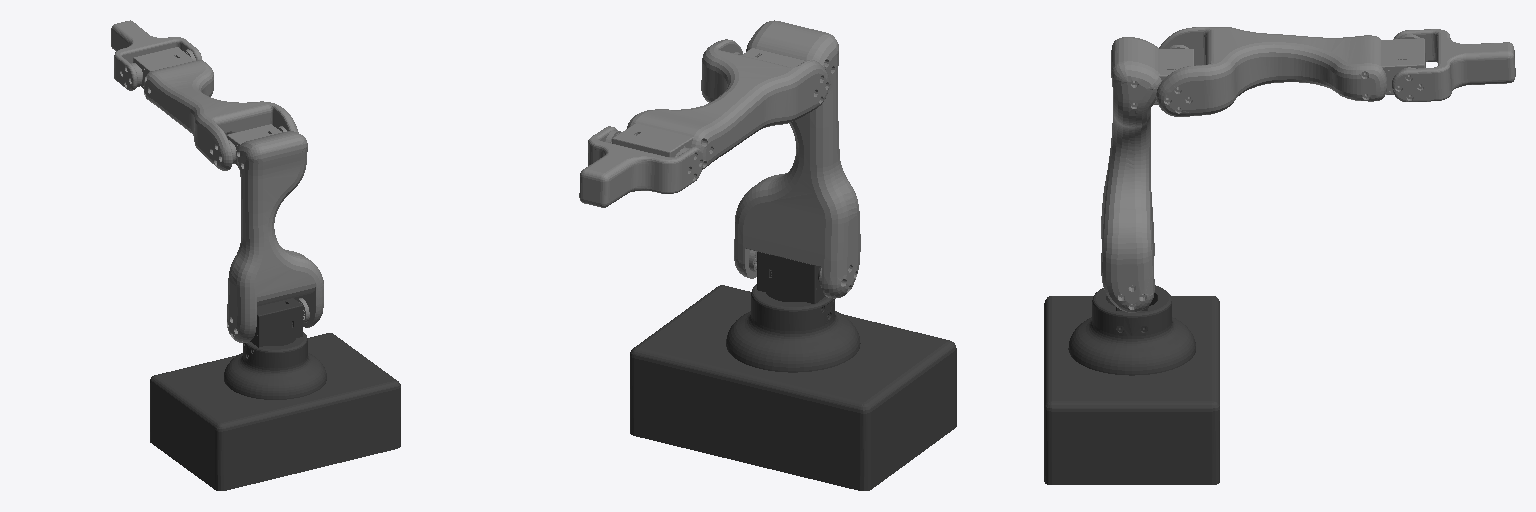
URDF robot description (4dof_1st):
<?xml version="1.0" encoding="utf-8"?>
<!-- This URDF was automatically created by SolidWorks to URDF Exporter! Originally created by [author] ([email redacted]) 
     Commit Version: 1.6.0-4-g7f85cfe  Build Version: 1.6.7995.38578
     For more information, please see http://wiki.ros.org/sw_urdf_exporter -->
<robot
  name="4dof_1st">
  <link
    name="base">
    <inertial>
      <origin
        xyz="1.46459065209692E-17 0.0279238800911216 2.10438569532799E-17"
        rpy="0 0 0" />
      <mass
        value="1.01233115660444" />
      <inertia
        ixx="0.00127851826321163"
        ixy="-2.84647285928239E-20"
        ixz="-2.04313611300598E-19"
        iyy="0.00330201153266579"
        iyz="-5.59989405987059E-20"
        izz="0.00254994453490086" />
    </inertial>
    <visual>
      <origin
        xyz="0 0 0"
        rpy="0 0 0" />
      <geometry>
        <mesh
          filename="package://4dof_1st/meshes/base.STL" />
      </geometry>
      <material
        name="clear">
        <color
          rgba="0.3 0.3 0.3 1" />
      </material>
    </visual>
    <collision>
      <origin
        xyz="0 0 0"
        rpy="0 0 0" />
      <geometry>
        <mesh
          filename="package://4dof_1st/meshes/base.STL" />
      </geometry>
    </collision>
  </link>
  <link
    name="L1">
    <inertial>
      <origin
        xyz="6.98379577605036E-08 0.00839921203566611 -0.00011619558777941"
        rpy="0 0 0" />
      <mass
        value="0.109719412381612" />
      <inertia
        ixx="4.04026836034197E-05"
        ixy="-1.24783674052928E-10"
        ixz="-1.48199934122019E-10"
        iyy="5.74445778942386E-05"
        iyz="-1.44657703020893E-07"
        izz="3.7937379436841E-05" />
    </inertial>
    <visual>
      <origin
        xyz="0 0 0"
        rpy="0 0 0" />
      <geometry>
        <mesh
          filename="package://4dof_1st/meshes/L1.STL" />
      </geometry>
      <material
        name="clear">
        <color
          rgba="0.3 0.3 0.3 1" />
      </material>
    </visual>
    <collision>
      <origin
        xyz="0 0 0"
        rpy="0 0 0" />
      <geometry>
        <mesh
          filename="package://4dof_1st/meshes/L1.STL" />
      </geometry>
    </collision>
  </link>
  <joint
    name="base_L1"
    type="continuous">
    <origin
      xyz="0 0 0.06806"
      rpy="1.5707963267949 0 1.5707963267949" />
    <parent
      link="base" />
    <child
      link="L1" />
    <axis
      xyz="0 1 0" />
  </joint>
  <link
    name="L2">
    <inertial>
      <origin
        xyz="0.0702336453115942 0.00389238854048329 -0.0201130596648308"
        rpy="0 0 0" />
      <mass
        value="0.202780167580016" />
      <inertia
        ixx="0.000109799446034618"
        ixy="-3.30138194275749E-06"
        ixz="8.2619647998707E-05"
        iyy="0.000352426504373169"
        iyz="8.08050887748614E-07"
        izz="0.000386493423397687" />
    </inertial>
    <visual>
      <origin
        xyz="0 0 0"
        rpy="0 0 0" />
      <geometry>
        <mesh
          filename="package://4dof_1st/meshes/L2.STL" />
      </geometry>
      <material
        name="gray">
        <color
          rgba="0.55 0.55 0.55 0.8" />
      </material>
    </visual>
    <collision>
      <origin
        xyz="0 0 0"
        rpy="0 0 0" />
      <geometry>
        <mesh
          filename="package://4dof_1st/meshes/L2.STL" />
      </geometry>
    </collision>
  </link>
  <joint
    name="L1_L2"
    type="continuous">
    <origin
      xyz="0 0.04 0"
      rpy="-1.5707963267949 0 1.82825948514324" />
    <parent
      link="L1" />
    <child
      link="L2" />
    <axis
      xyz="0 -1 0" />
  </joint>
  <link
    name="L3">
    <inertial>
      <origin
        xyz="-0.0478479592653754 0.00515392784575905 0.0519819866111054"
        rpy="0 0 0" />
      <mass
        value="0.147186775685883" />
      <inertia
        ixx="0.000138624780944488"
        ixy="4.37801584099522E-06"
        ixz="7.10053754036743E-05"
        iyy="0.000163287060061744"
        iyz="-4.40680894568525E-06"
        izz="0.000111799281194118" />
    </inertial>
    <visual>
      <origin
        xyz="0 0 0"
        rpy="0 0 0" />
      <geometry>
        <mesh
          filename="package://4dof_1st/meshes/L3.STL" />
      </geometry>
      <material
        name="gray">
        <color
          rgba="0.55 0.55 0.55 0.8" />
      </material>
    </visual>
    <collision>
      <origin
        xyz="0 0 0"
        rpy="0 0 0" />
      <geometry>
        <mesh
          filename="package://4dof_1st/meshes/L3.STL" />
      </geometry>
    </collision>
  </link>
  <joint
    name="L2_L3"
    type="continuous">
    <origin
      xyz="0.123232487432328 0 -0.062343357033776"
      rpy="3.14159265358979 -0.92718462077581 -3.14159265358979" />
    <parent
      link="L2" />
    <child
      link="L3" />
    <axis
      xyz="0 -1 0" />
  </joint>
  <link
    name="L4">
    <inertial>
      <origin
        xyz="0.000535223217596727 1.02410807403808E-06 0.0300122413358316"
        rpy="0 0 0" />
      <mass
        value="0.0347795552224983" />
      <inertia
        ixx="1.20189725985311E-05"
        ixy="-3.6324844596862E-11"
        ixz="1.06433575237549E-07"
        iyy="1.8701961839349E-05"
        iyz="-2.33290064173088E-12"
        izz="9.31854675173955E-06" />
    </inertial>
    <visual>
      <origin
        xyz="0 0 0"
        rpy="0 0 0" />
      <geometry>
        <mesh
          filename="package://4dof_1st/meshes/L4.STL" />
      </geometry>
      <material
        name="gray">
        <color
          rgba="0.55 0.55 0.55 0.8" />
      </material>
    </visual>
    <collision>
      <origin
        xyz="0 0 0"
        rpy="0 0 0" />
      <geometry>
        <mesh
          filename="package://4dof_1st/meshes/L4.STL" />
      </geometry>
    </collision>
  </link>
  <joint
    name="L3_L4"
    type="continuous">
    <origin
      xyz="-0.0955215832350811 0 0.108970341085377"
      rpy="-0.719726043206436 0 1.5707963267949" />
    <parent
      link="L3" />
    <child
      link="L4" />
    <axis
      xyz="-1 0 0" />
  </joint>
</robot>

--- Facts derived from the render (not from the file) ---
Views: 3 orthographic renders of the robot side by side, from view 1: azimuth 30°, elevation 25°; view 2: azimuth 150°, elevation 25°; view 3: azimuth 270°, elevation 25°.
Model 4dof_1st with 5 links and 4 joints (4 continuous), rooted at base, posed every joint at zero.
Links seen in each view (by area): view 1: base, L2, L3, L1, L4; view 2: base, L2, L3, L1, L4; view 3: base, L3, L2, L1, L4.
Boxes of the visible links, x1=… form: base: x1=150, y1=333, x2=400, y2=490; L2: x1=227, y1=124, x2=323, y2=342; L3: x1=133, y1=47, x2=298, y2=170; L1: x1=224, y1=298, x2=326, y2=399; L4: x1=111, y1=20, x2=202, y2=90; base: x1=630, y1=285, x2=956, y2=490; L2: x1=734, y1=20, x2=860, y2=298; L3: x1=612, y1=39, x2=828, y2=169; L1: x1=726, y1=252, x2=860, y2=372; L4: x1=579, y1=126, x2=702, y2=207; base: x1=1044, y1=296, x2=1219, y2=484; L3: x1=1156, y1=27, x2=1425, y2=116; L2: x1=1101, y1=37, x2=1193, y2=312; L1: x1=1068, y1=285, x2=1195, y2=375; L4: x1=1392, y1=29, x2=1515, y2=101.
Bounding box of the posed robot: 0.165 × 0.2949 × 0.2644 m (x, y, z).
Meshes: 5 distinct files referenced, 5 mesh visuals loaded (5 binary STL).